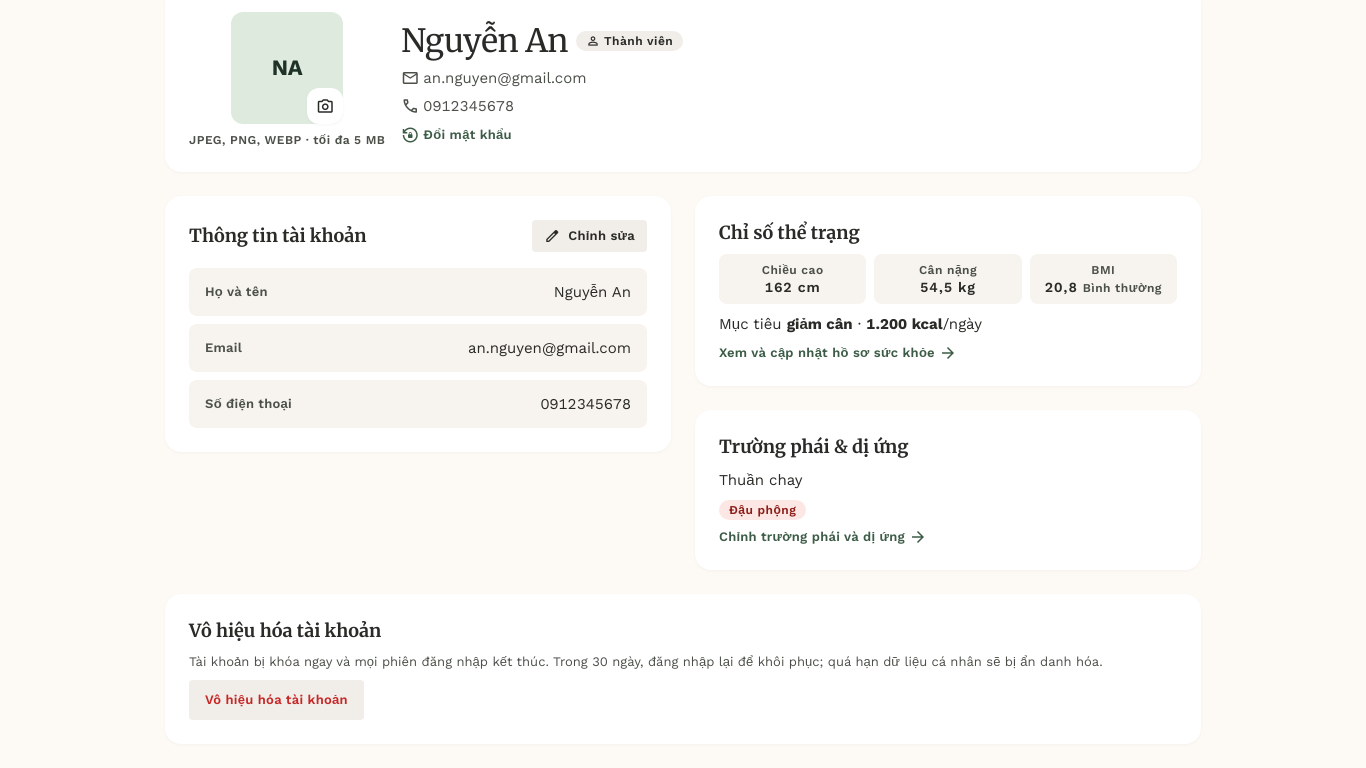
Test case: Profile (SCR-07) › Backend đã có DELETE /users/me: nút vô hiệu hóa bấm được và mở hộp xác nhận mật khẩu
(page scrolled)
Click the button "Vô hiệu hóa tài khoản" at x=276, y=700, box top-left (189, 680), bottom-right (364, 720)
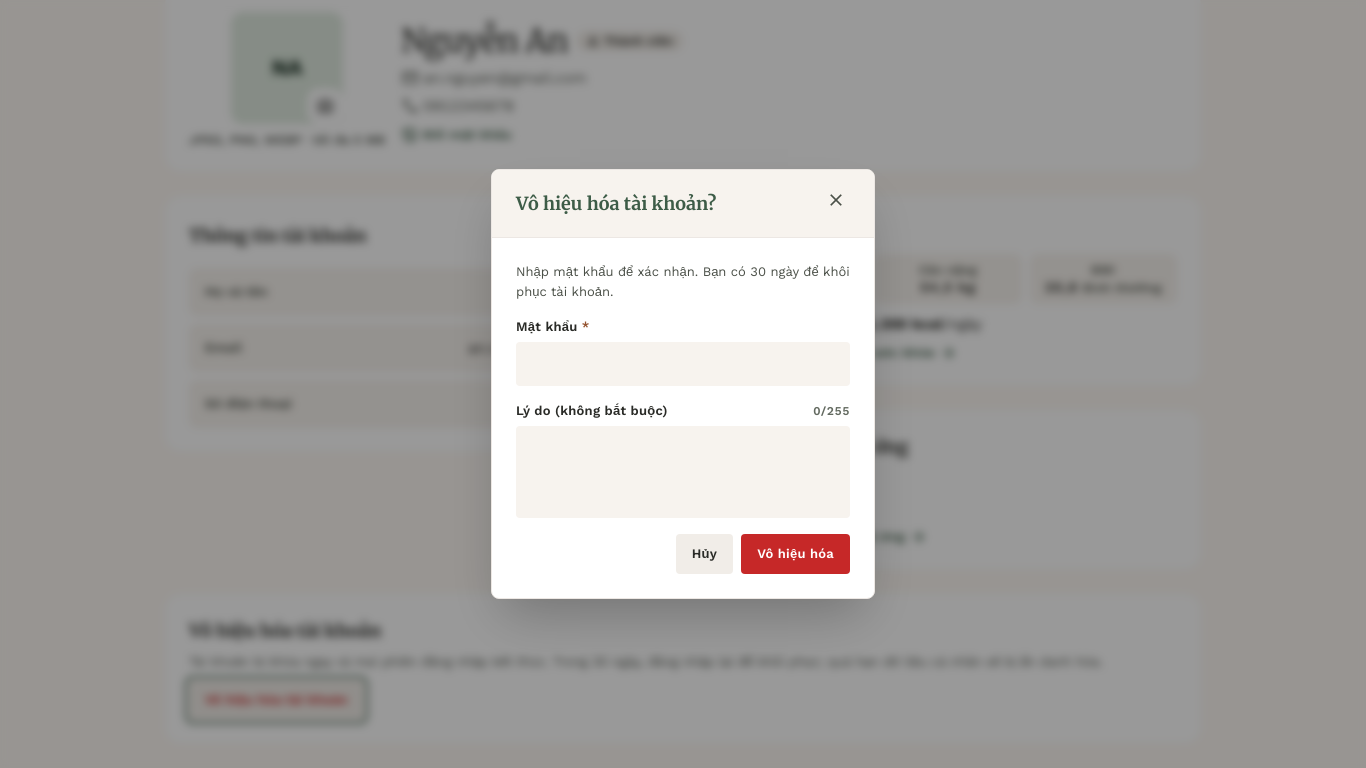
Now the text "Nhập mật khẩu để xác nhận. Bạn có 30 ngày để khôi phục tài khoản." is shown, box top-left (516, 262), bottom-right (850, 302)
